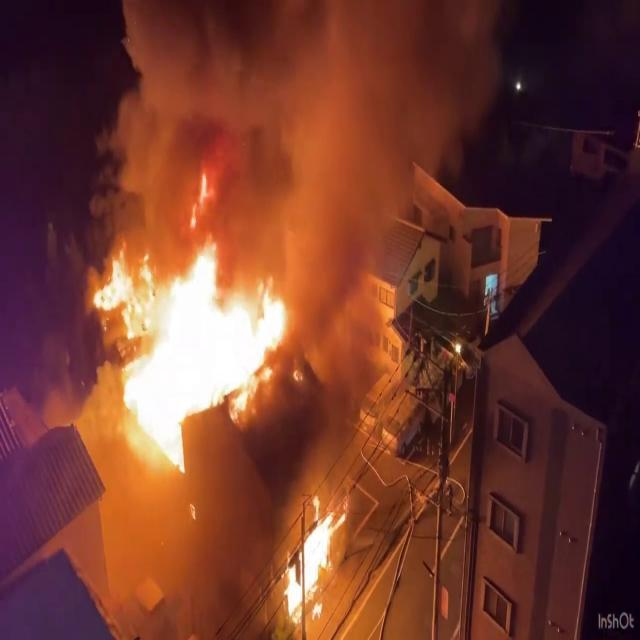Fire: (90, 222, 298, 472), (275, 492, 349, 634)
Smoke: (97, 0, 490, 268)
